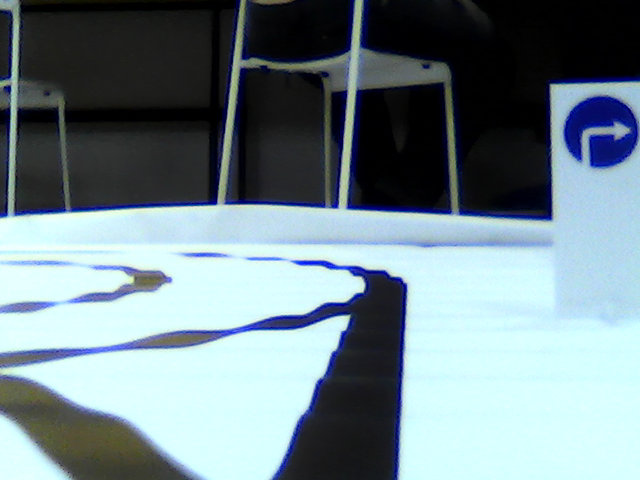Right: (564, 95, 637, 170)
